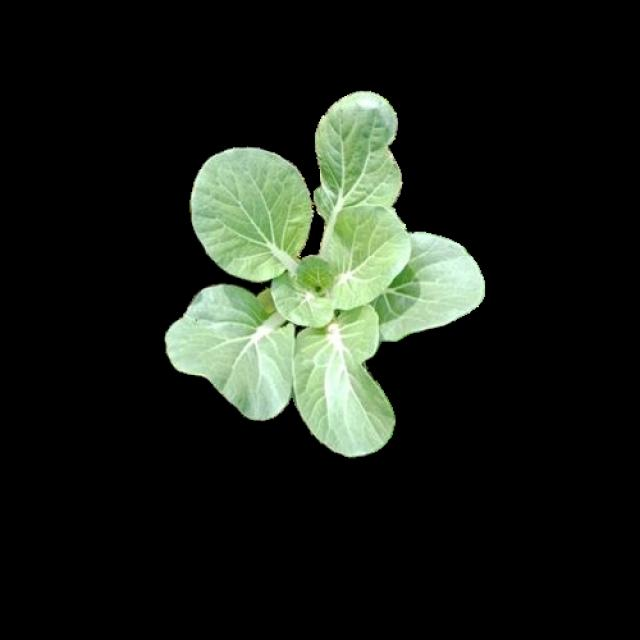healthy: (172, 114, 486, 474)
not-mature: (162, 96, 478, 456)
